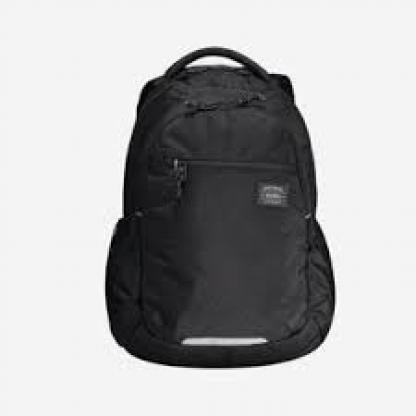morral: (89, 42, 366, 376)
